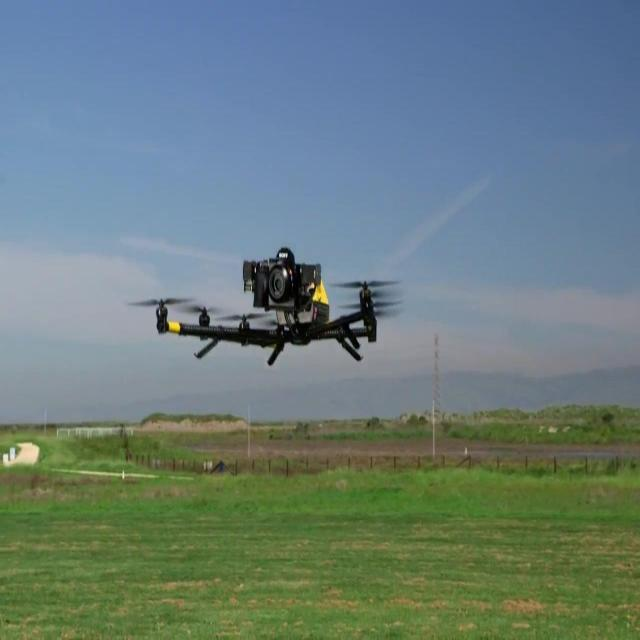drone: (127, 243, 406, 371)
